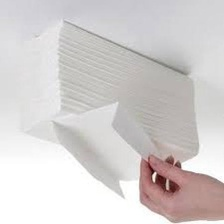tissue: (11, 14, 207, 204)
